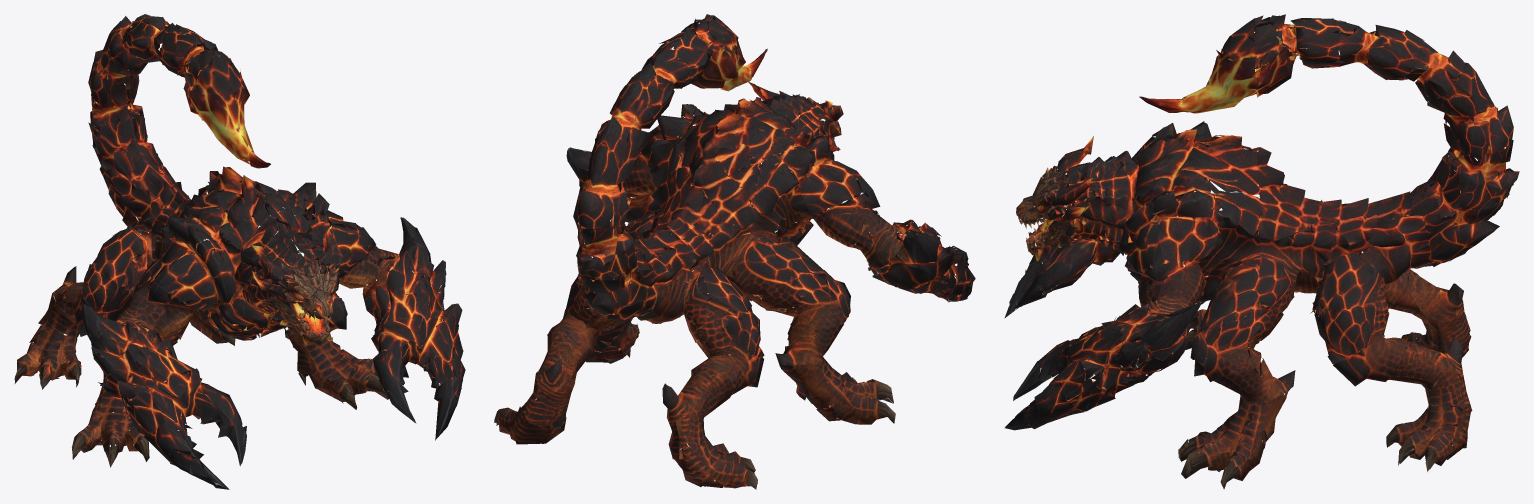
Rendered from emberclaw_prop.glb.
3 views of the same model, side by side, from view 1: azimuth 30°, elevation 25°; view 2: azimuth 150°, elevation 25°; view 3: azimuth 270°, elevation 25° (orthographic). The views are drawn at different scales.
Parts seen in each view (by area): view 1: Mesh_0; view 2: Mesh_0; view 3: Mesh_0.
Part boxes in pixels (x1,y1,x2,y2): Mesh_0: (14, 14, 465, 489); Mesh_0: (494, 14, 975, 489); Mesh_0: (1004, 14, 1519, 489).
Size of the model in its own units: 1.64 by 1.61 by 1.9.
Materials: 1 (1 with a texture image).
